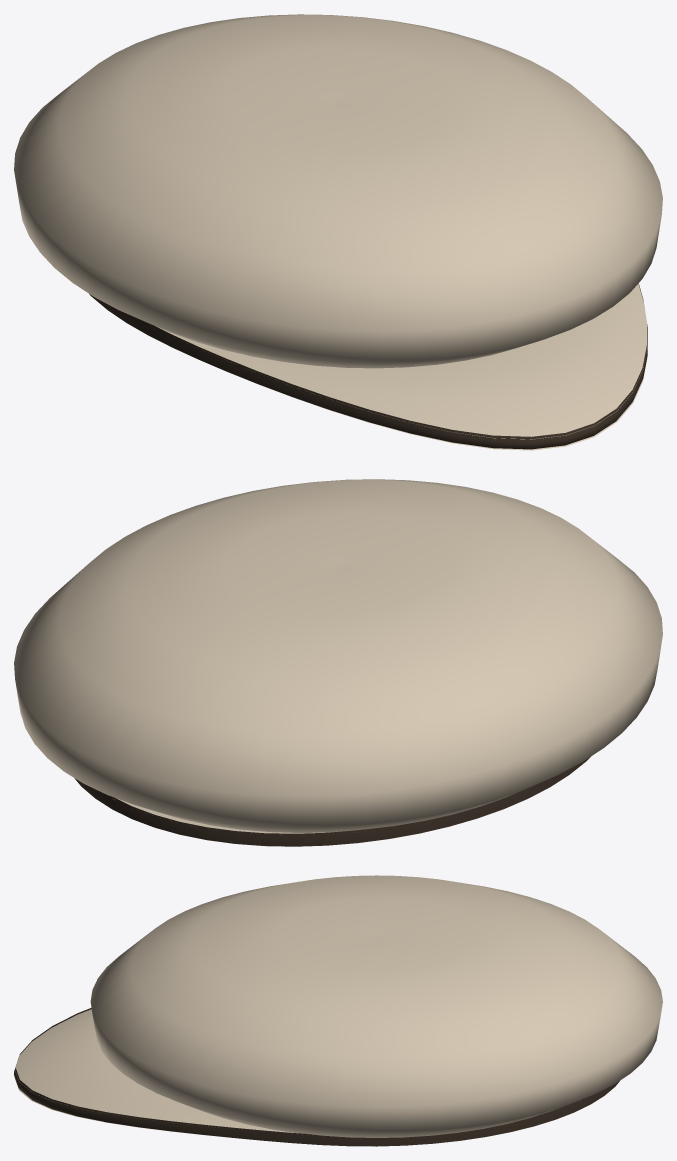
File: flat-cap.glb
3 renders of one model, top to bottom at view 1: azimuth 30°, elevation 25°; view 2: azimuth 150°, elevation 25°; view 3: azimuth 270°, elevation 25°, orthographic. The views are drawn at different scales.
Visible parts, largest first — view 1: Felt crown, Felt upper brim, Bound brim edge, Felt under brim; view 2: Felt crown, Bound brim edge, Felt upper brim; view 3: Felt crown, Felt upper brim, Bound brim edge.
Part boxes in pixels (left/top/right/bottom): Felt crown: left=14, top=14, right=662, bottom=368; Felt upper brim: left=156, top=283, right=647, bottom=439; Bound brim edge: left=89, top=283, right=647, bottom=449; Felt under brim: left=89, top=294, right=647, bottom=450; Felt crown: left=14, top=479, right=662, bottom=832; Bound brim edge: left=74, top=757, right=590, bottom=846; Felt upper brim: left=114, top=798, right=329, bottom=835; Felt crown: left=90, top=875, right=662, bottom=1137; Felt upper brim: left=15, top=1009, right=293, bottom=1132; Bound brim edge: left=14, top=1008, right=619, bottom=1146.
Size of the model in its own units: 0.2057 by 0.0657 by 0.2689.
